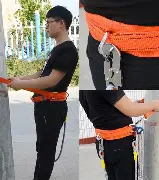safety belt: (83, 11, 158, 58), (29, 86, 71, 106), (94, 127, 134, 141)
